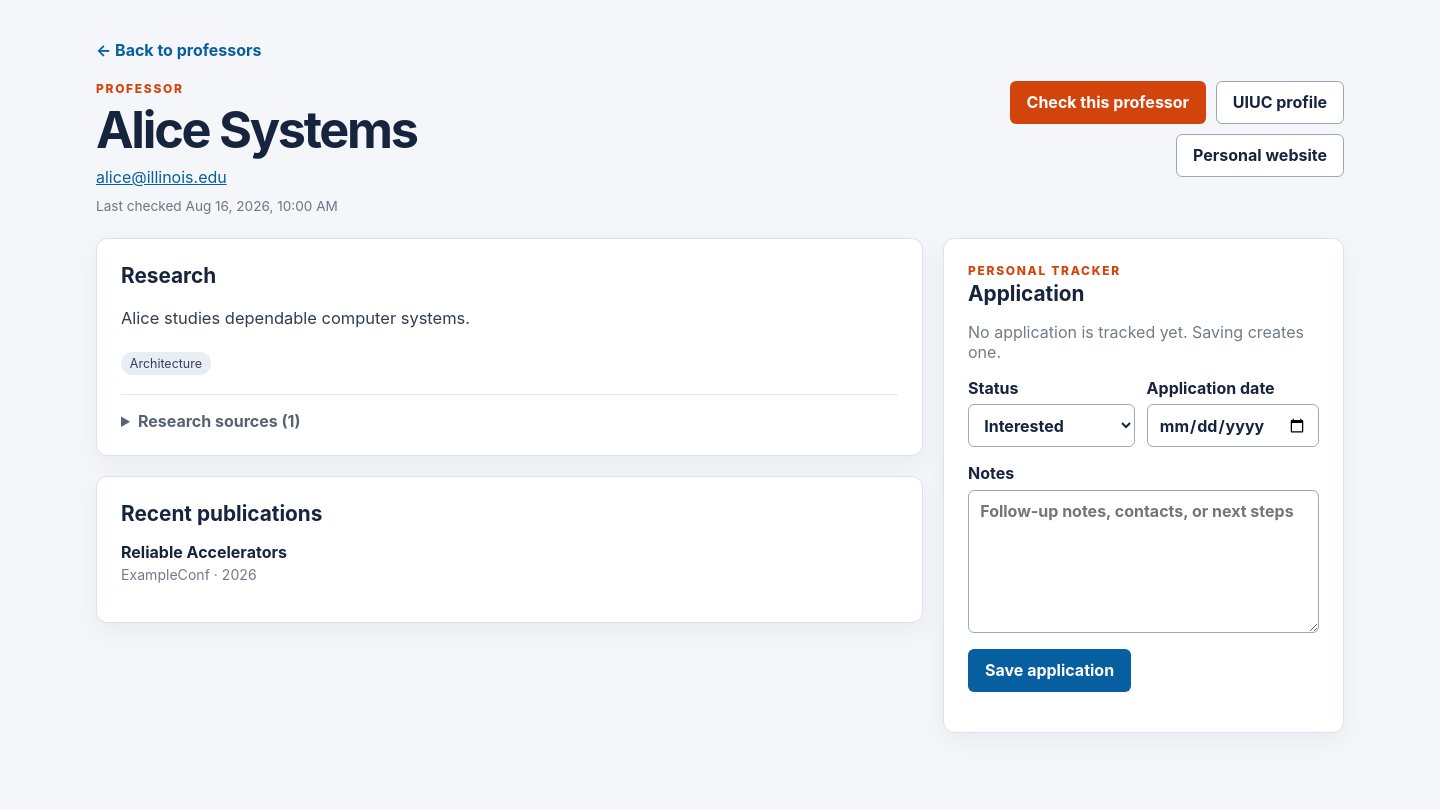
Scenario: shows research, publications, and saves an application explicitly
expect the heading "Alice Systems" is shown: met, box left=96, top=99, right=417, bottom=160
expect the text "Alice studies dependable computer systems." is shown: met, box left=121, top=308, right=470, bottom=328
Select "Applied" in the dropdown labelled "Status" at (1051, 426), box left=968, top=404, right=1135, bottom=447
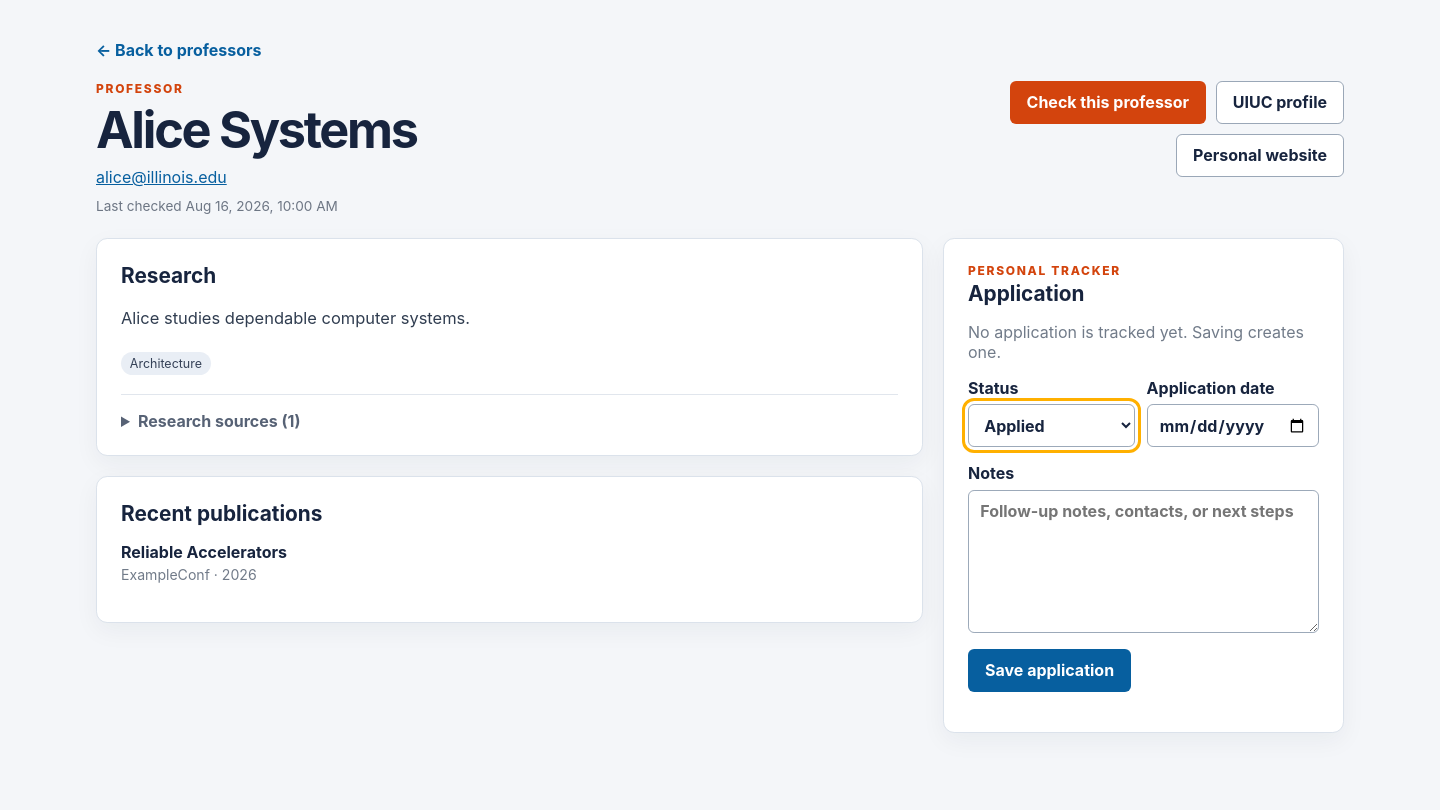
Type "2026-08-16" into the date field labelled "Application date".
click(1233, 426); type("2026-08-16")  # box left=1147, top=404, right=1319, bottom=447
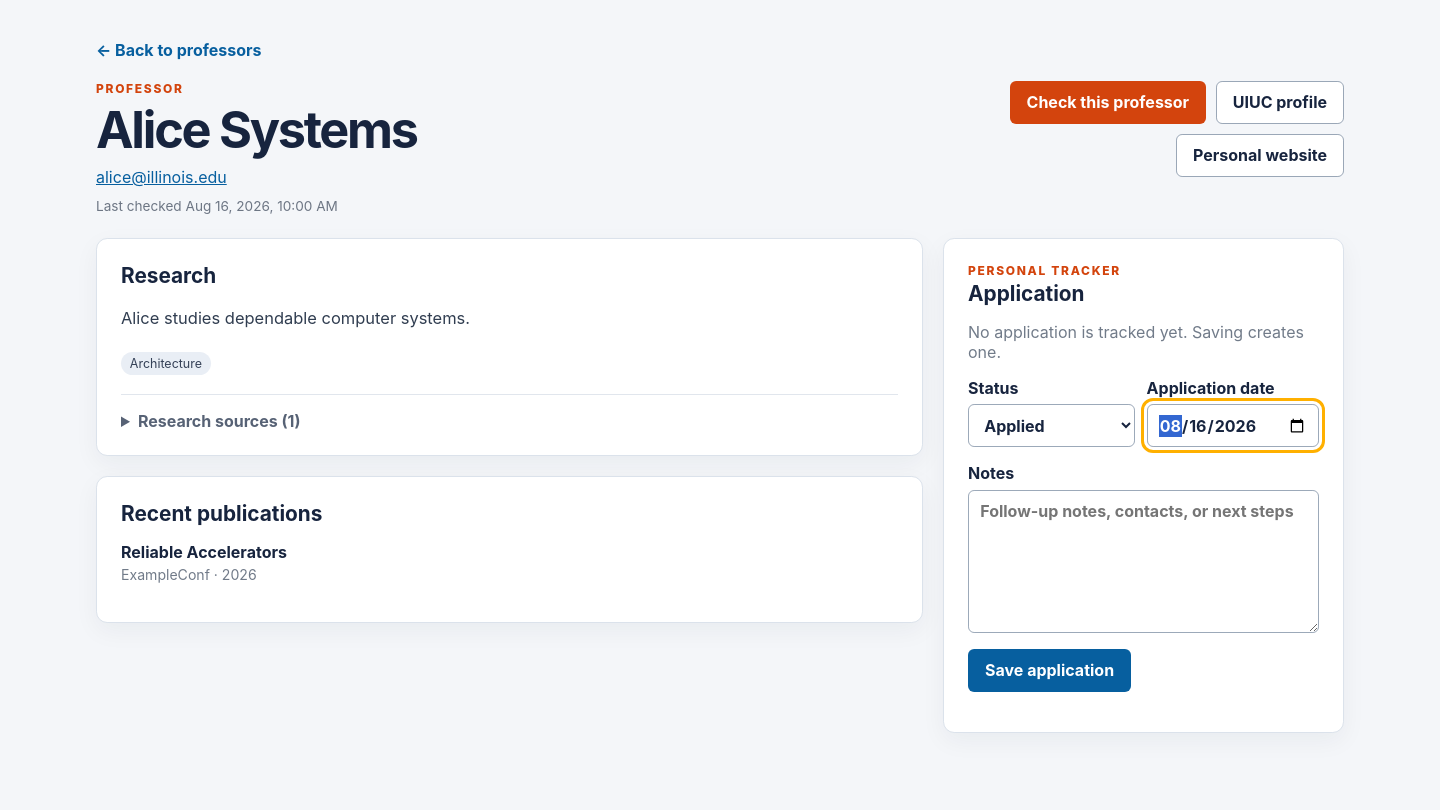
Type "Submitted" into the text box labelled "Notes".
click(1144, 561); type("Submitted")  # box left=968, top=490, right=1319, bottom=632
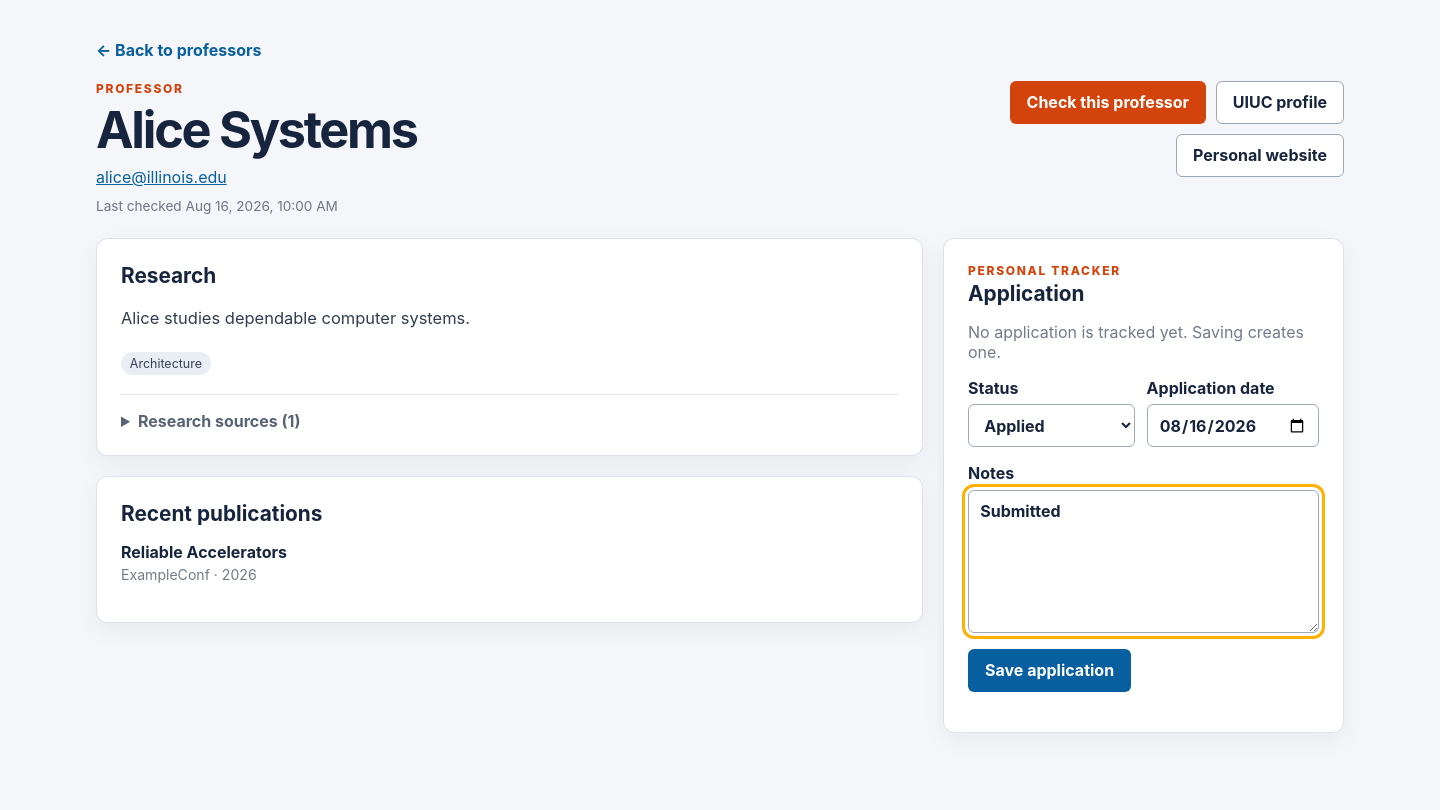
Click the button "Save application".
click(1050, 670)  # box left=968, top=648, right=1131, bottom=692
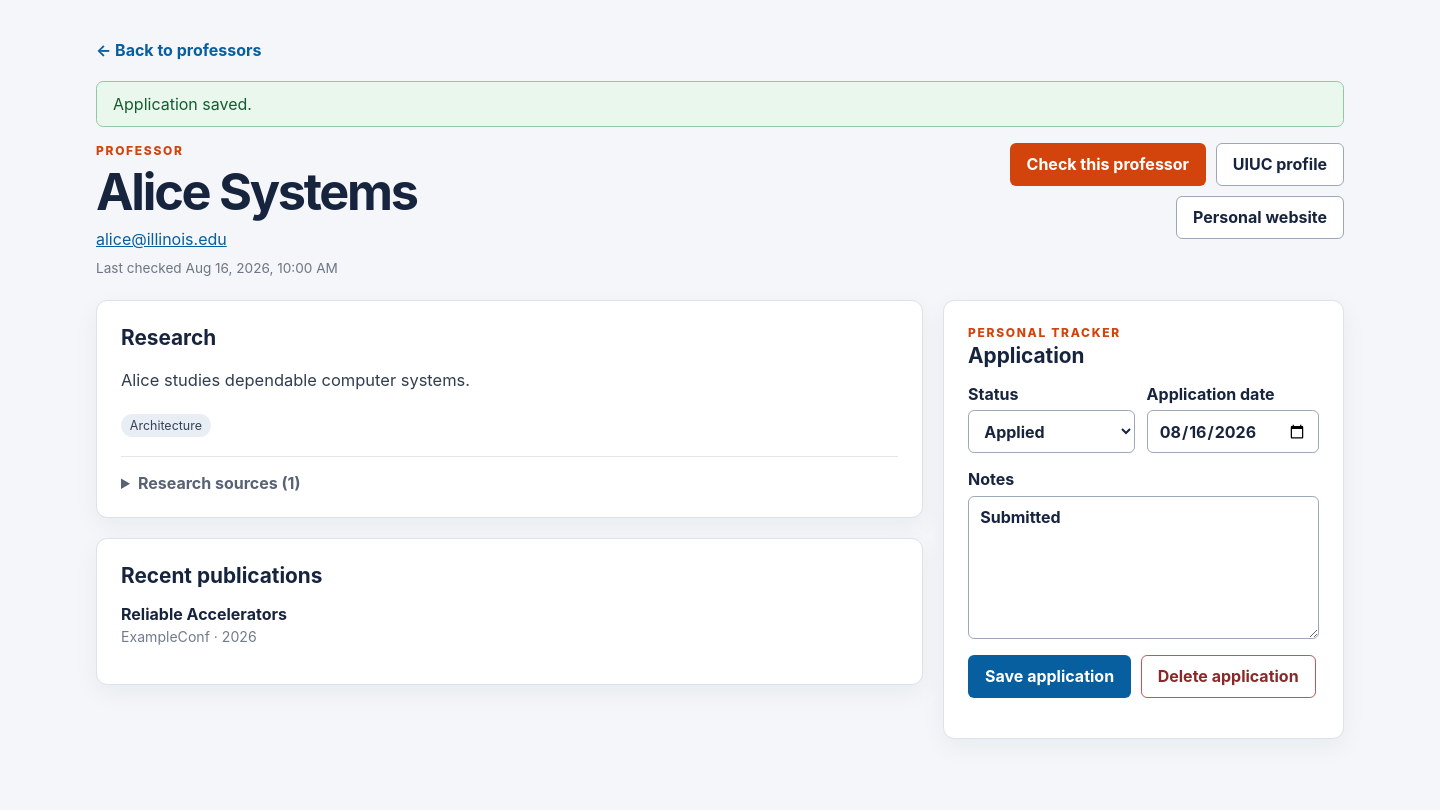
expect the message reads "Application saved.": met, box left=113, top=94, right=252, bottom=114
